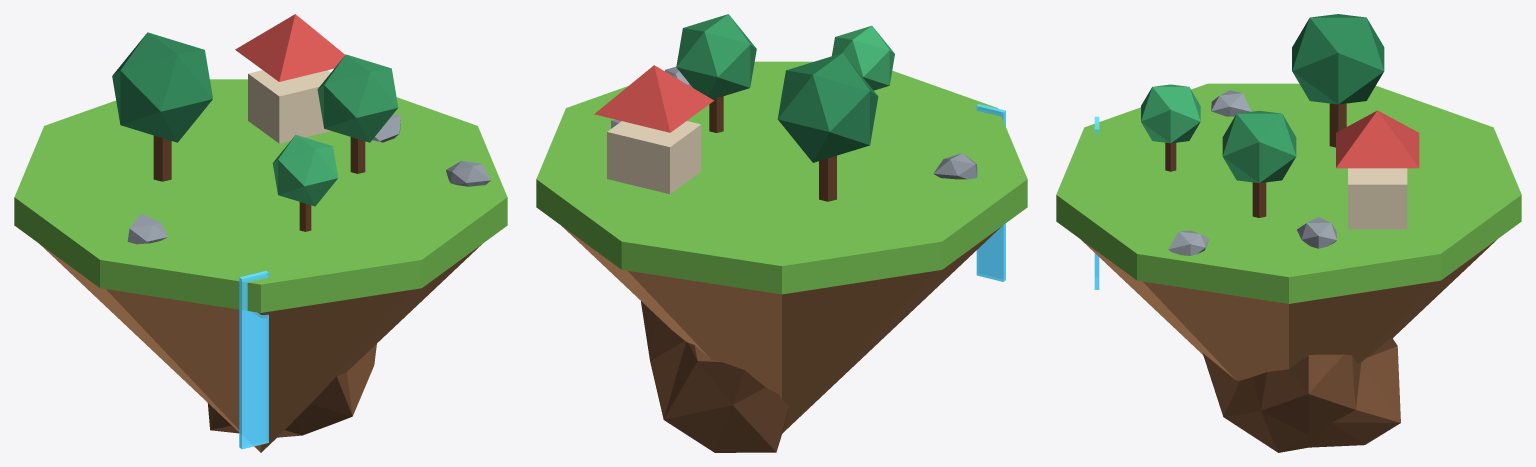
3 views of the same model, side by side, from view 1: azimuth 30°, elevation 25°; view 2: azimuth 150°, elevation 25°; view 3: azimuth 270°, elevation 25° (orthographic). The views are drawn at different scales.
Parts seen in each view (by area): view 1: part_0, part_1, part_4, part_6, part_9, part_14, part_10, part_2, part_8, part_11, part_12, part_3 (+1 smaller); view 2: part_0, part_1, part_2, part_4, part_9, part_6, part_10, part_8, part_14, part_12, part_3, part_5; view 3: part_0, part_1, part_2, part_4, part_6, part_10, part_9, part_8, part_13, part_11, part_12, part_3 (+1 smaller).
Boxes of the visible parts, box(x1,y1,x2,y2) form: part_0: box(14, 79, 507, 312); part_1: box(40, 244, 481, 452); part_4: box(112, 32, 212, 142); part_6: box(317, 54, 398, 142); part_9: box(248, 70, 330, 143); part_14: box(239, 270, 268, 449); part_10: box(235, 14, 344, 81); part_2: box(207, 344, 376, 437); part_8: box(272, 135, 338, 206); part_11: box(446, 160, 490, 186); part_12: box(127, 213, 168, 244); part_3: box(153, 135, 171, 181); part_0: box(536, 61, 1027, 294); part_1: box(562, 226, 1001, 433); part_2: box(641, 301, 789, 452); part_4: box(777, 53, 878, 162); part_9: box(607, 121, 701, 194); part_6: box(676, 14, 756, 99); part_10: box(594, 65, 714, 132); part_8: box(832, 25, 894, 90); part_14: box(976, 104, 1005, 281); part_12: box(933, 153, 977, 179); part_3: box(819, 155, 836, 201); part_5: box(709, 96, 723, 132); part_0: box(1056, 83, 1521, 303); part_1: box(1081, 240, 1496, 380); part_2: box(1202, 337, 1400, 452); part_4: box(1292, 14, 1384, 104); part_6: box(1222, 110, 1296, 183); part_10: box(1336, 110, 1419, 168); part_9: box(1348, 168, 1407, 229); part_8: box(1141, 84, 1200, 143); part_13: box(1297, 217, 1336, 248); part_11: box(1168, 230, 1209, 255); part_12: box(1211, 90, 1251, 116); part_3: box(1329, 103, 1346, 147).
Size of the model in its own units: 4.66 by 4.32 by 4.73.
